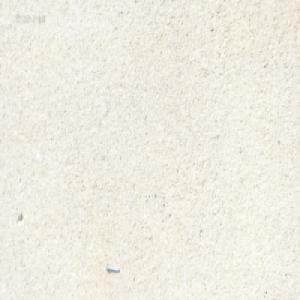Nail: (104, 263, 119, 272)
